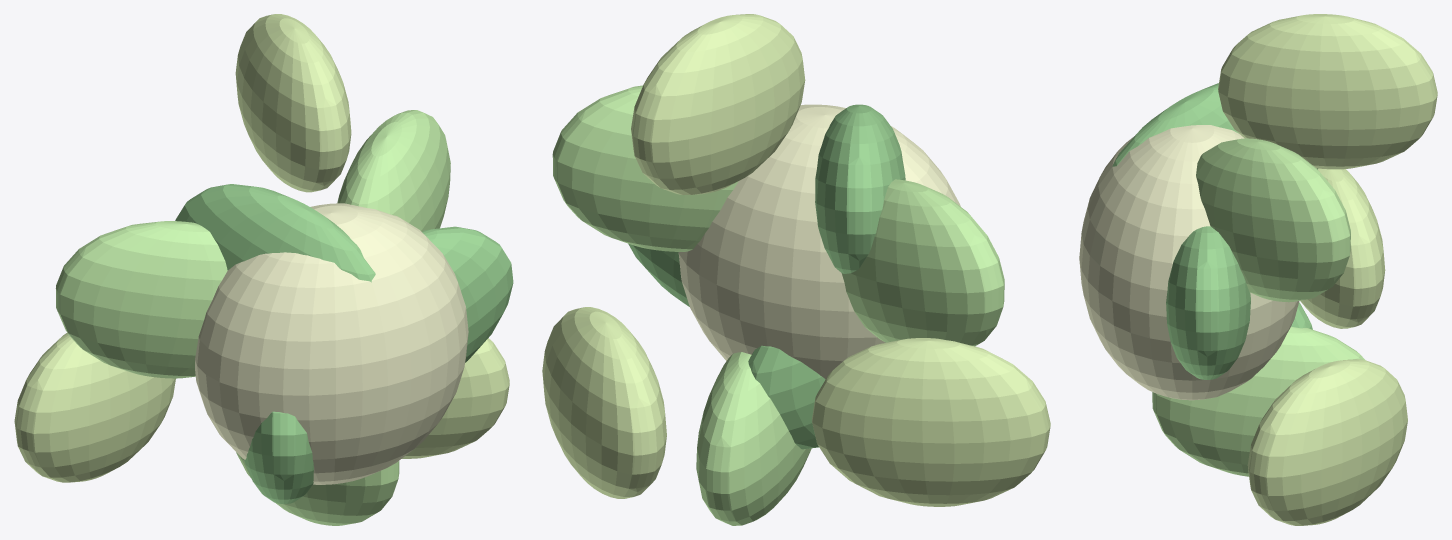
File: crop_lettuce_ready.fbx
The picture shows the model from 3 angles, left to right: view 1: azimuth 30°, elevation 25°; view 2: azimuth 150°, elevation 25°; view 3: azimuth 270°, elevation 25°; orthographic projection. The views are drawn at different scales.
Visible parts, largest first — view 1: crop_lettuce_ready, crop_lettuce_ready_nucleo; view 2: crop_lettuce_ready, crop_lettuce_ready_nucleo; view 3: crop_lettuce_ready, crop_lettuce_ready_nucleo.
Part boxes in pixels (<box>): crop_lettuce_ready: <box>14,14,513,525</box>; crop_lettuce_ready_nucleo: <box>195,203,468,484</box>; crop_lettuce_ready: <box>542,14,1050,525</box>; crop_lettuce_ready_nucleo: <box>678,104,960,379</box>; crop_lettuce_ready: <box>1112,14,1437,525</box>; crop_lettuce_ready_nucleo: <box>1079,125,1299,400</box>.
Size of the model in its own units: 145 by 136 by 95.15.
